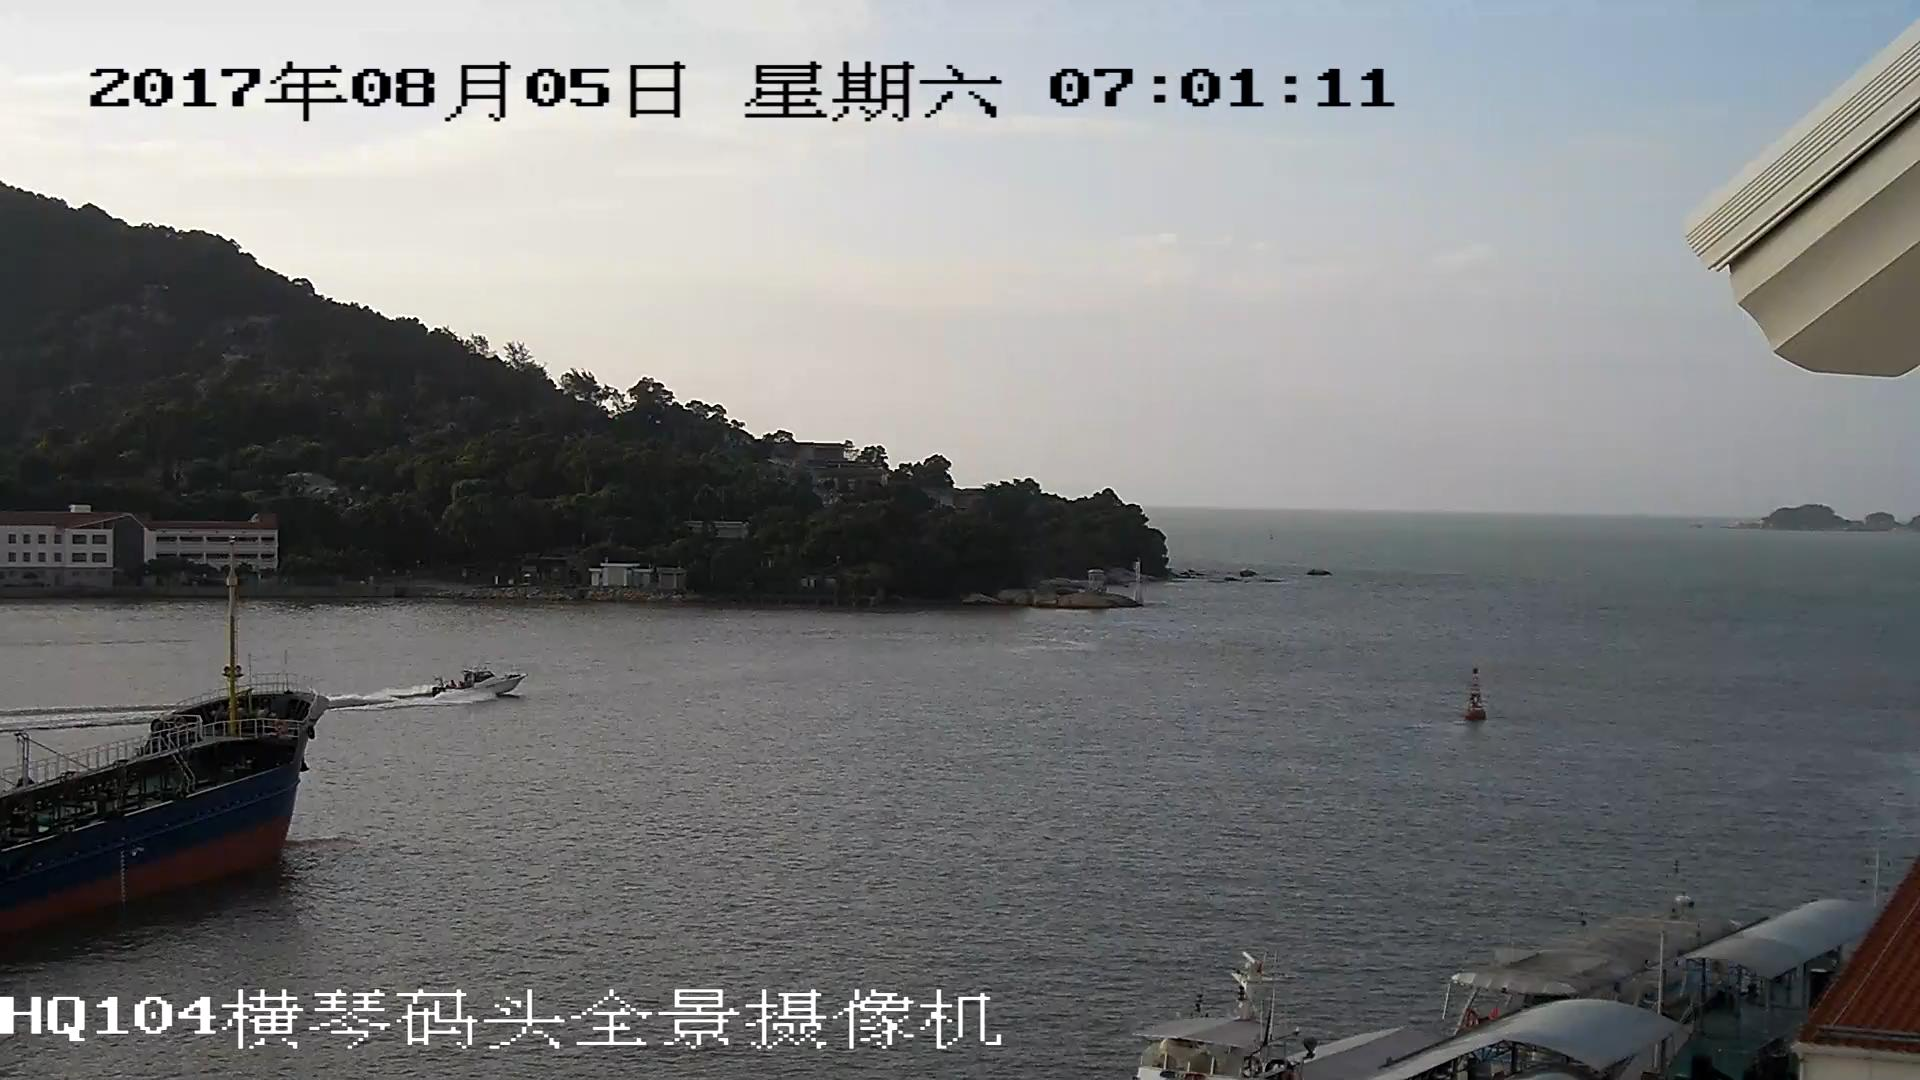general cargo ship: (1, 544, 313, 968)
